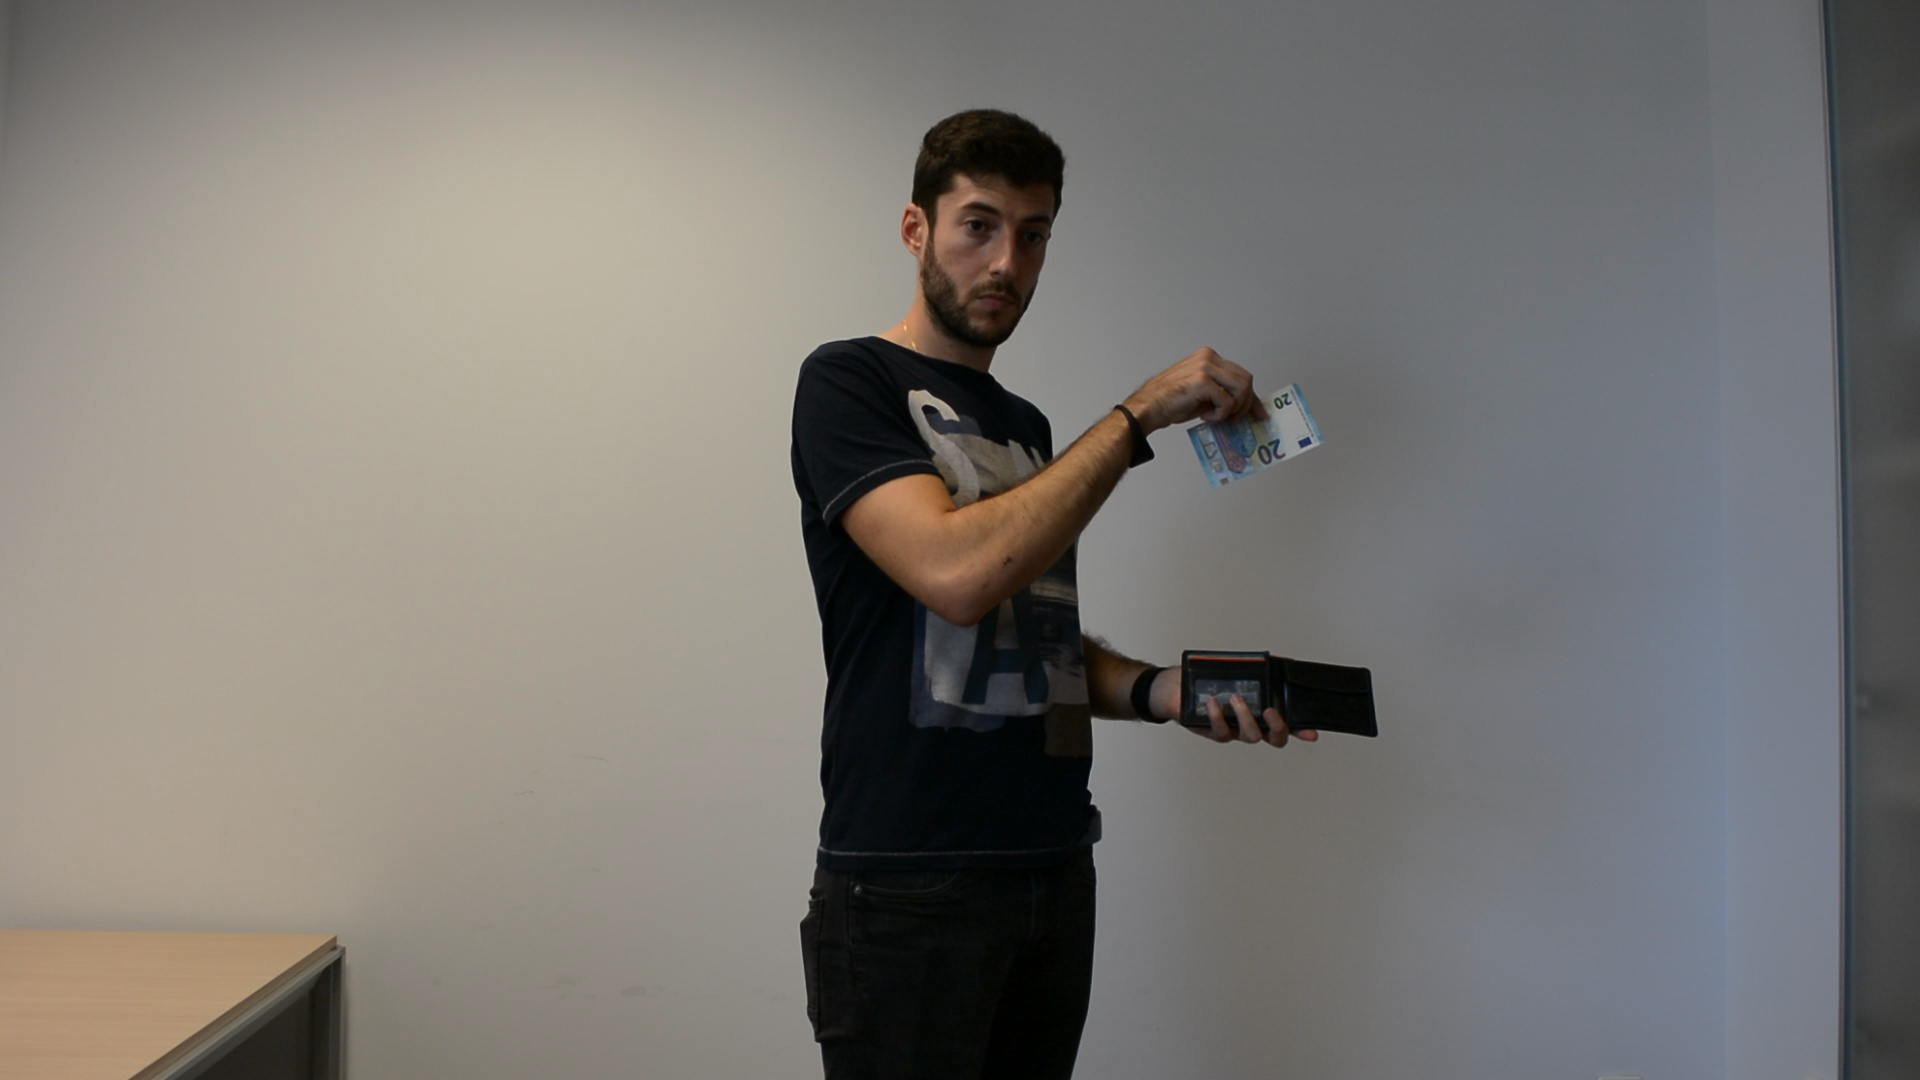billete: (1185, 378, 1332, 495)
monedero: (1178, 644, 1379, 742)
